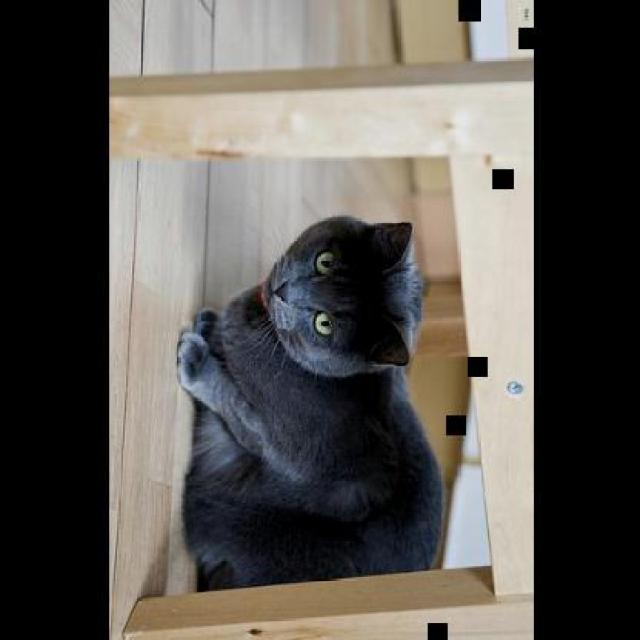unauthorized: (174, 214, 443, 591)
